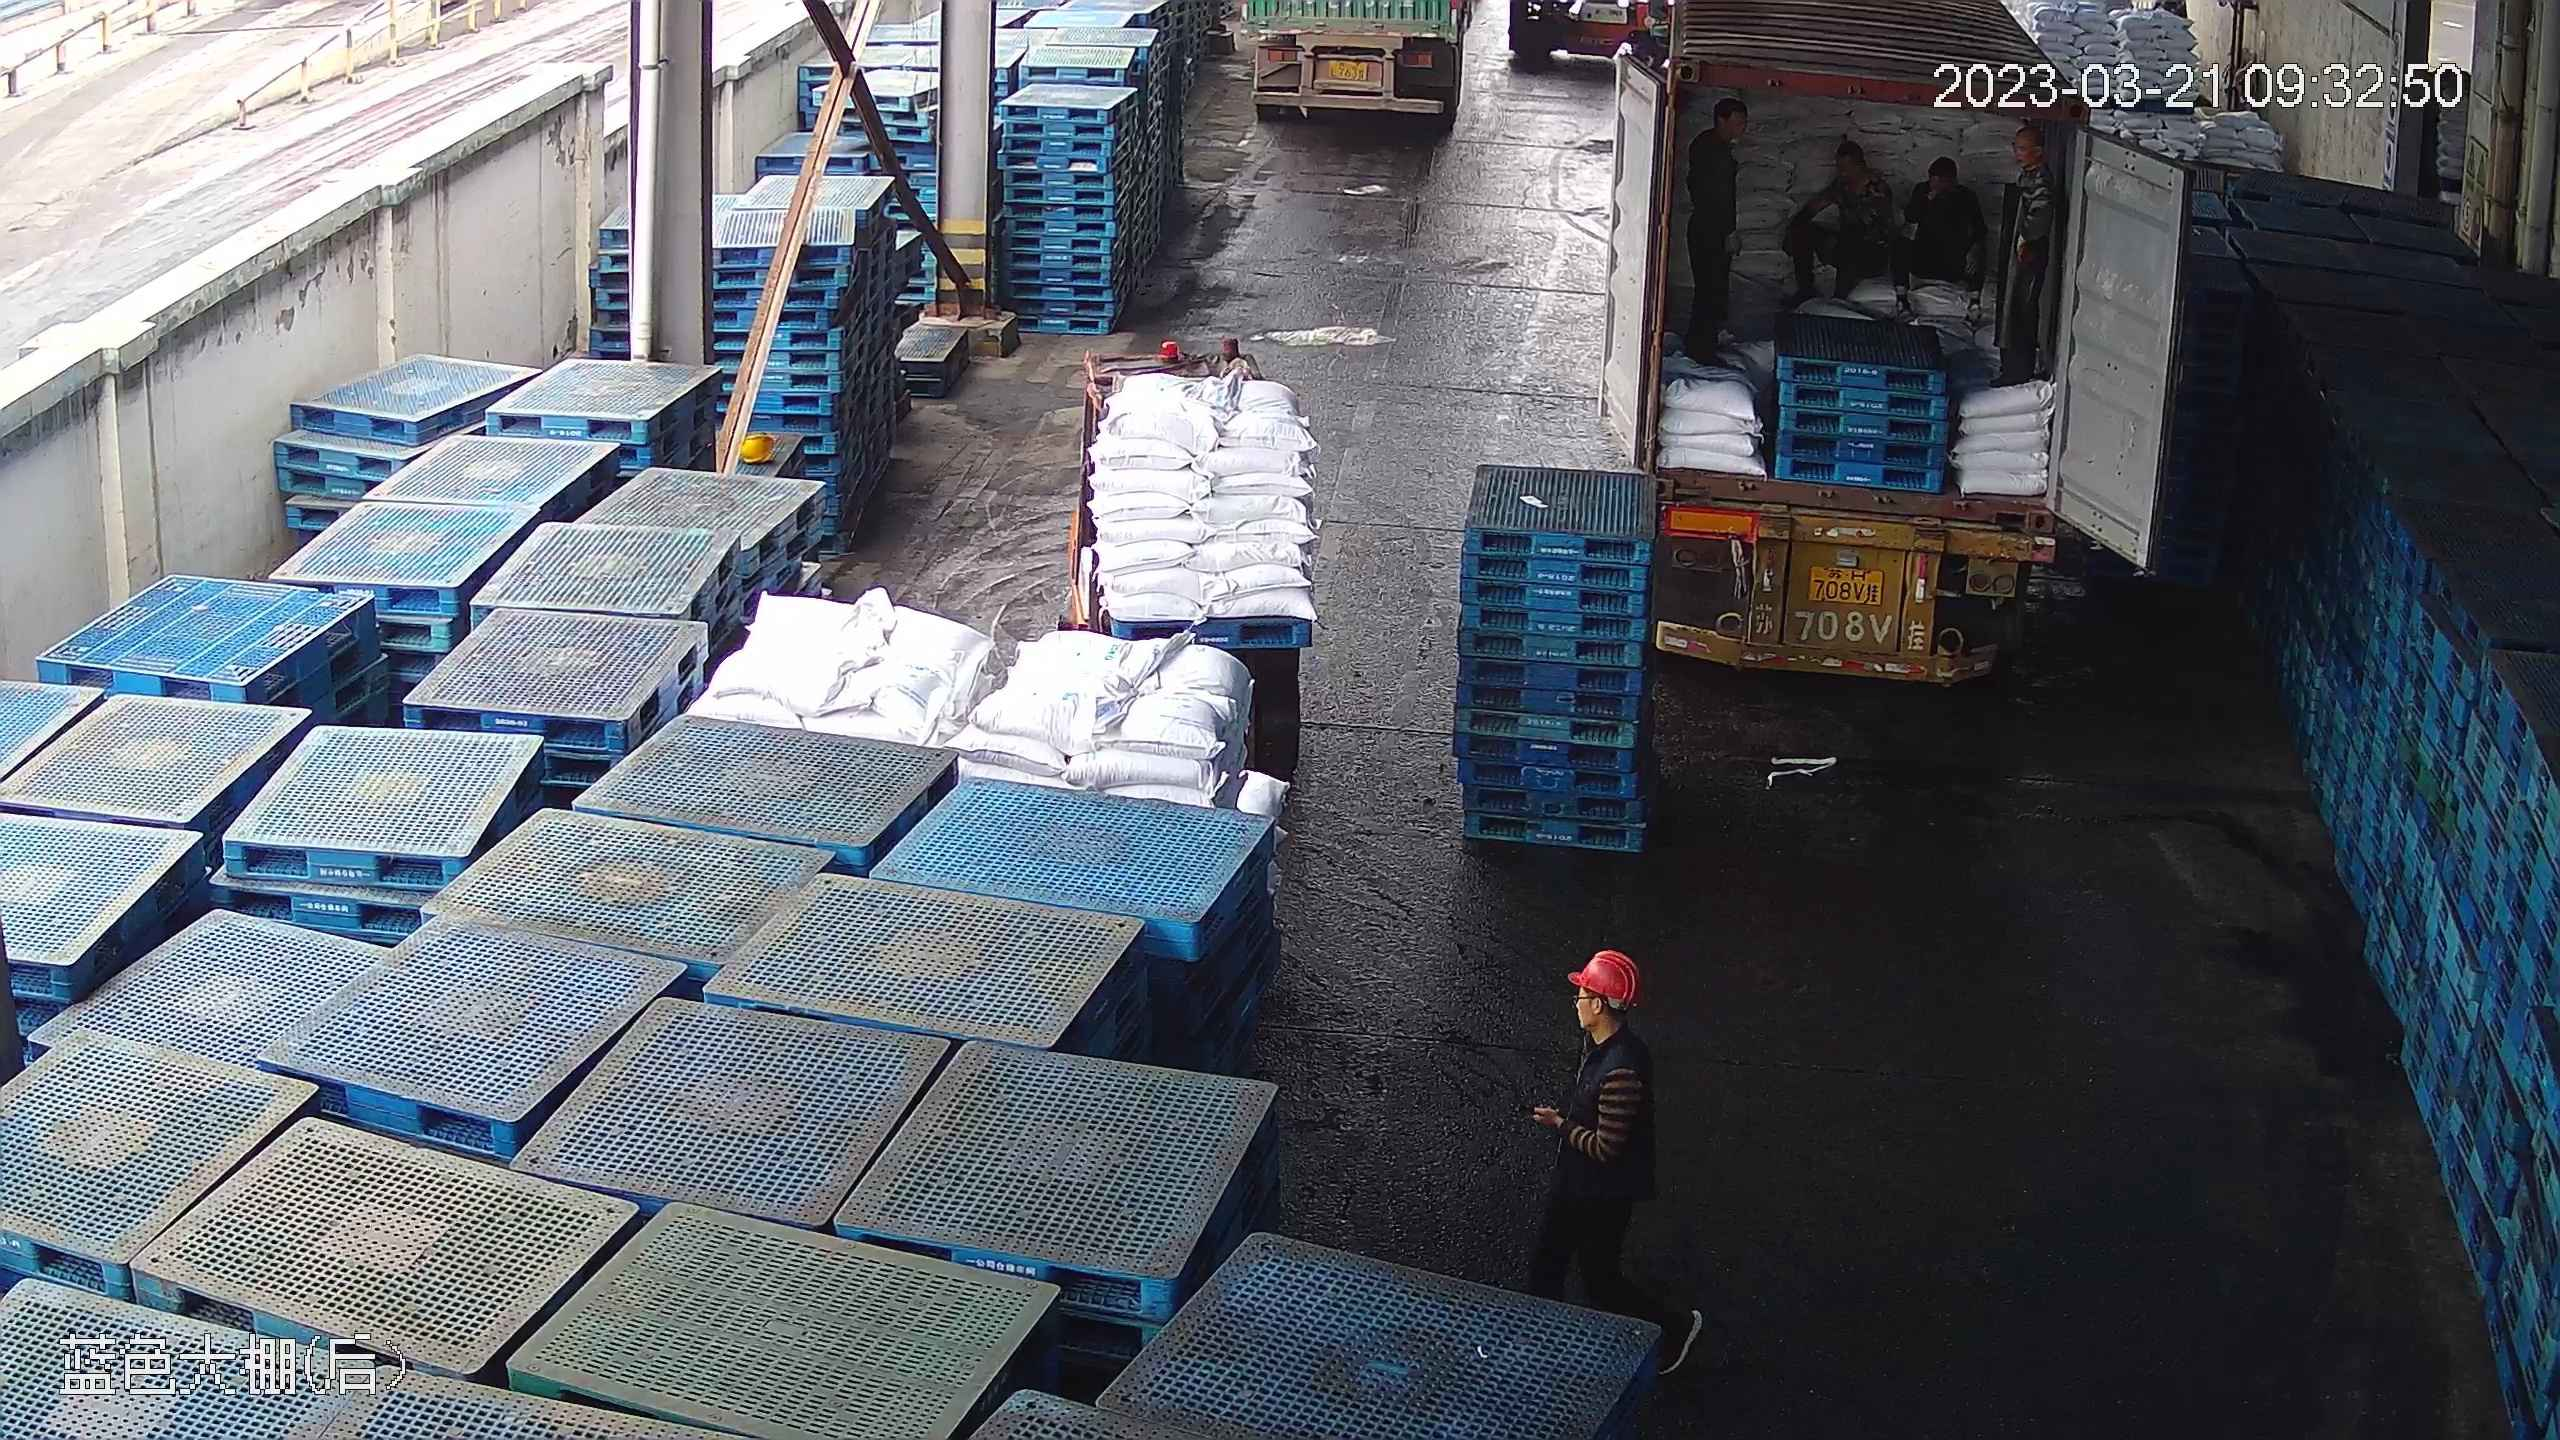head: (1564, 951, 1656, 1078), (1824, 138, 1893, 226), (1908, 152, 1979, 230), (2001, 124, 2054, 220), (1689, 100, 1742, 177)
helmet: (1577, 949, 1639, 1001), (735, 432, 777, 464)
people: (1522, 955, 1665, 1327), (1784, 133, 1897, 300), (1677, 100, 1746, 350), (1897, 148, 1987, 329), (1992, 123, 2054, 387)
truck: (1614, 23, 2101, 685), (1235, 3, 1480, 119)
